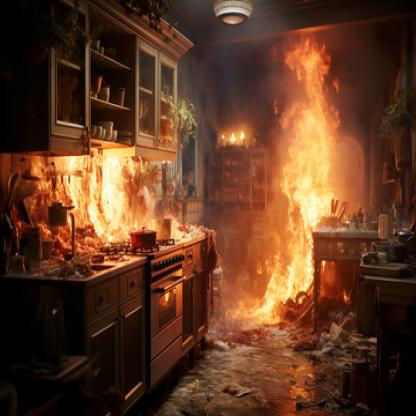fire: (261, 35, 342, 319), (31, 153, 148, 259)
smoke: (165, 9, 280, 266)
